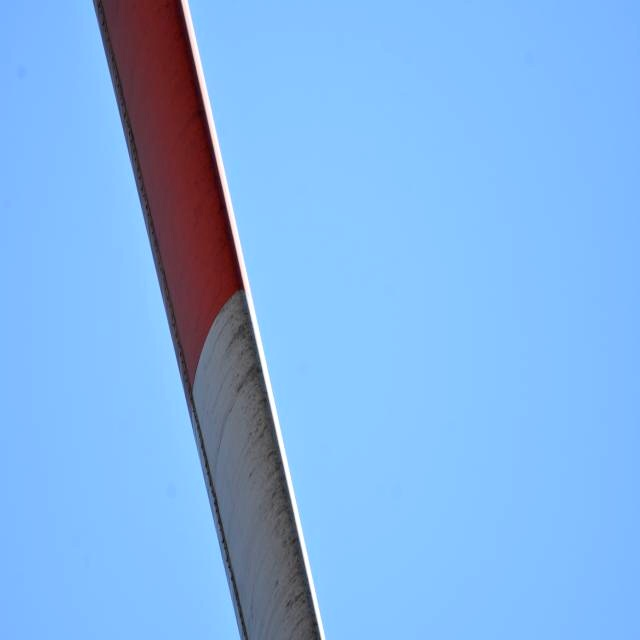EROSION: (241, 298, 295, 550)
